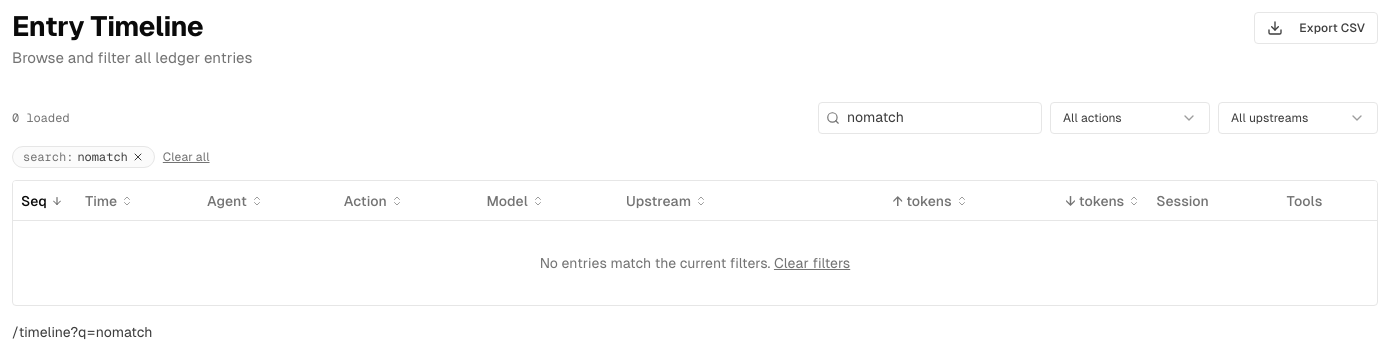
Test: TimelinePage — filters › offers a clear-filters shortcut in the filtered empty state
Click the button "Clear filters".
click(812, 263)  # box [774,253,850,273]
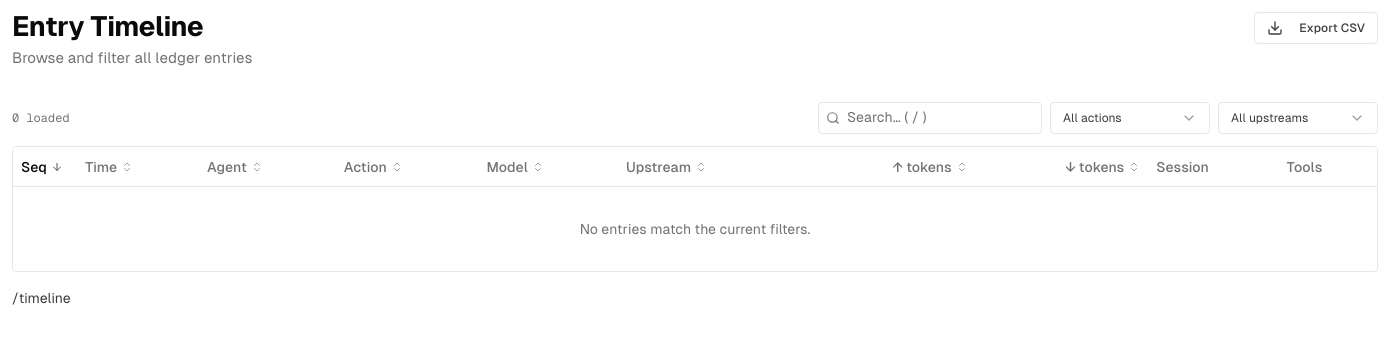
Expected: the text with test id "loc" reads "/timeline", [12,290,71,306]
